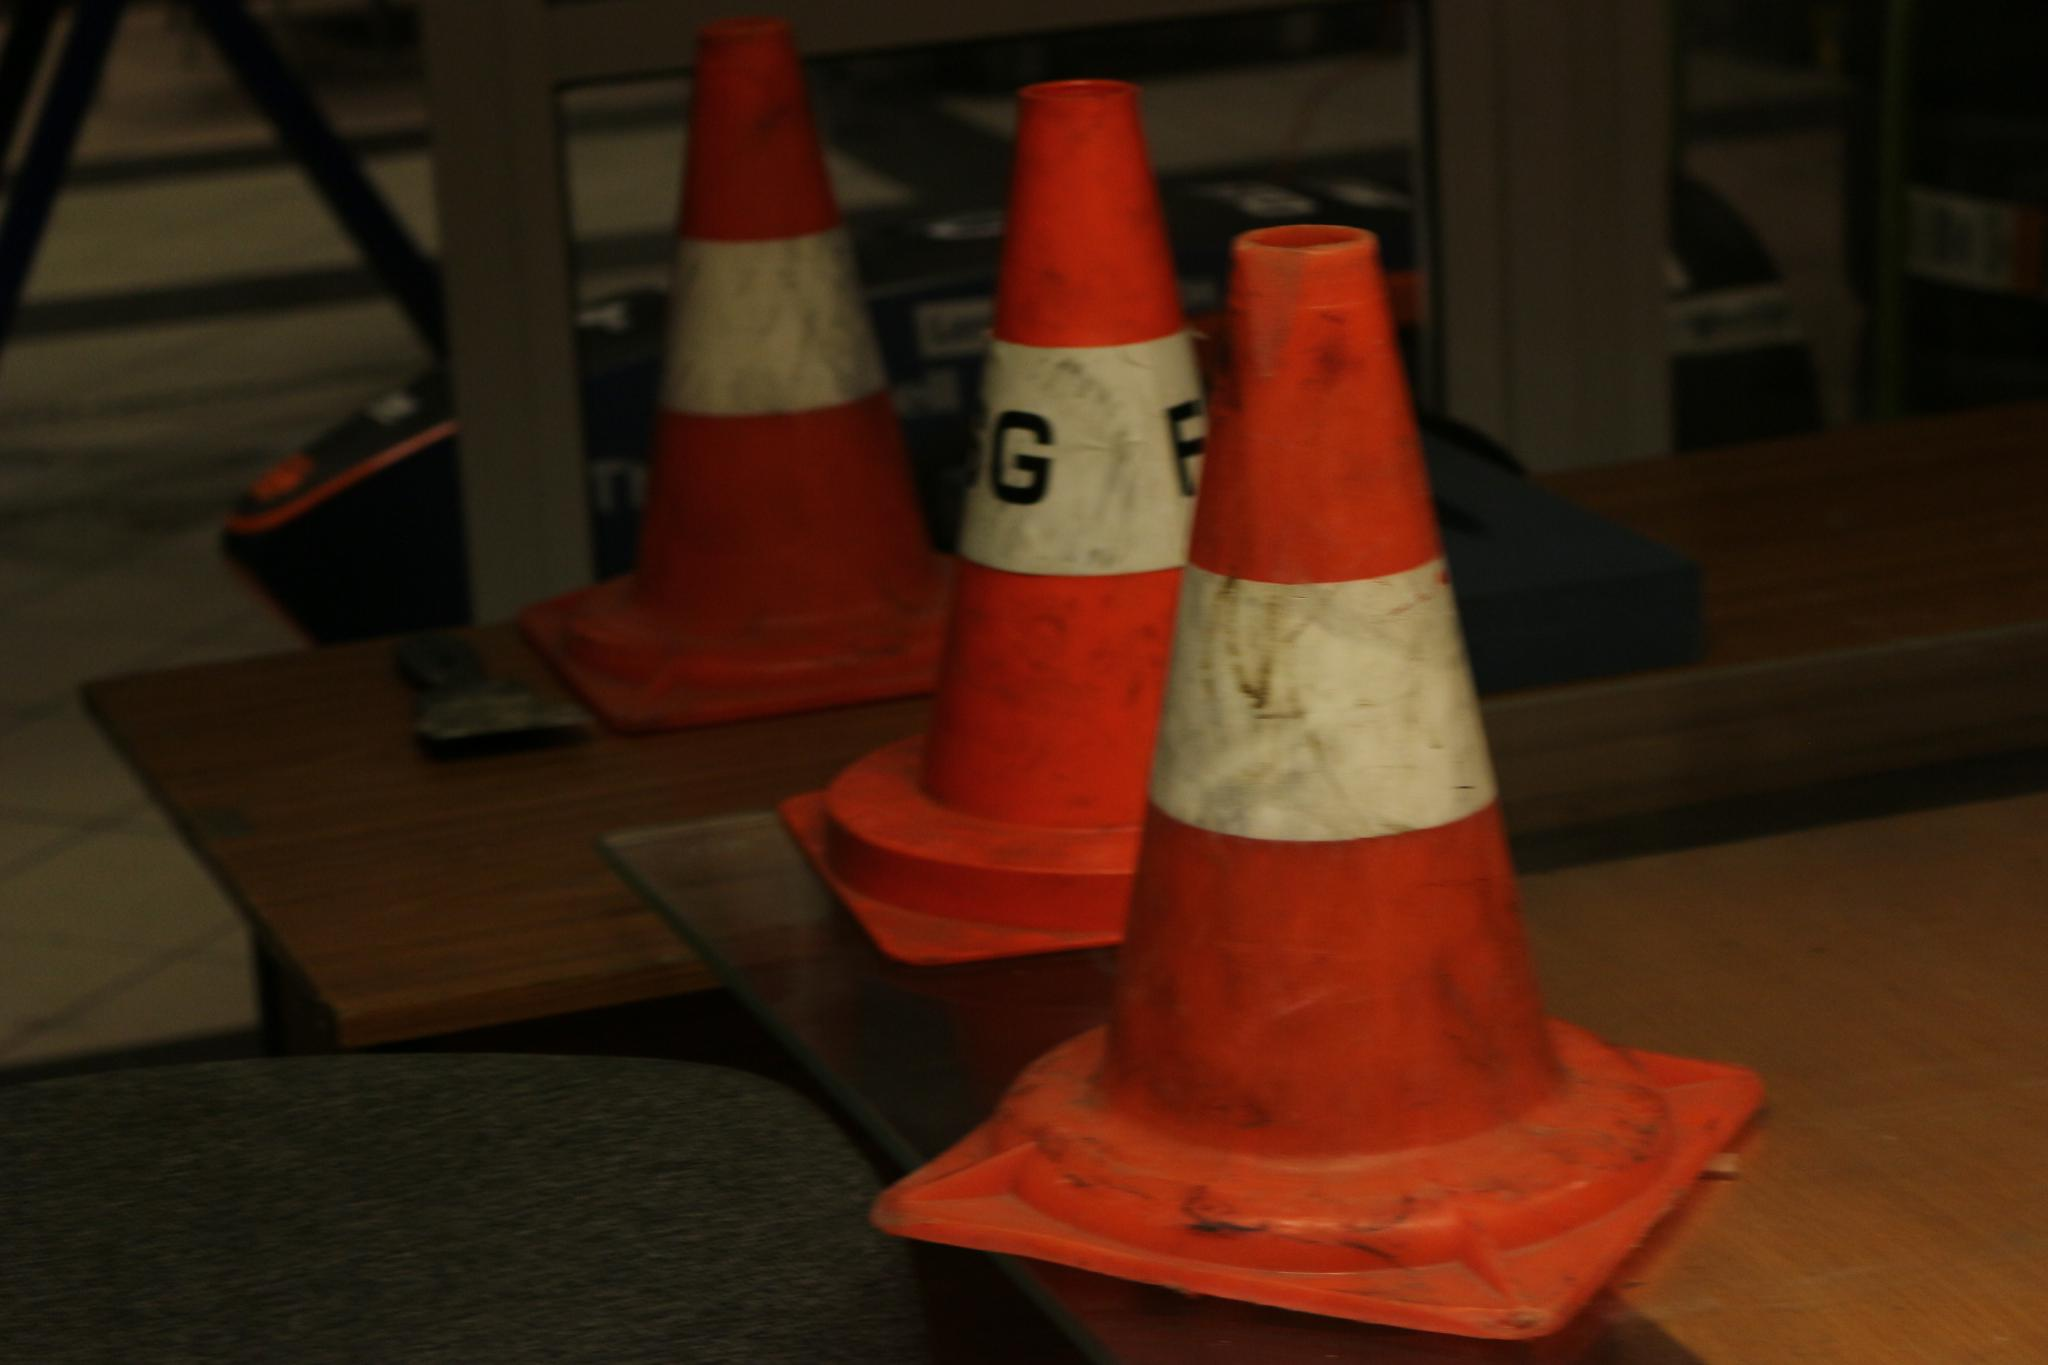Orange_Cone: (1019, 206, 1728, 1210), (799, 50, 1380, 961), (545, 0, 1008, 710)
